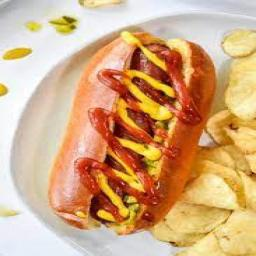hotdog: (43, 22, 216, 240)
